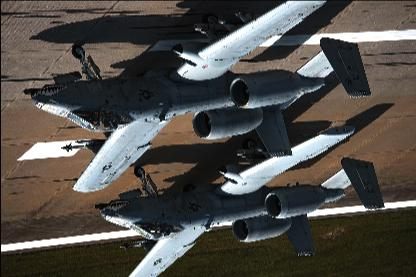A10: (23, 1, 370, 192), (94, 125, 385, 275)
